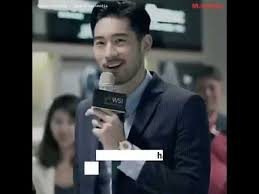asian_male: (81, 8, 163, 79)
